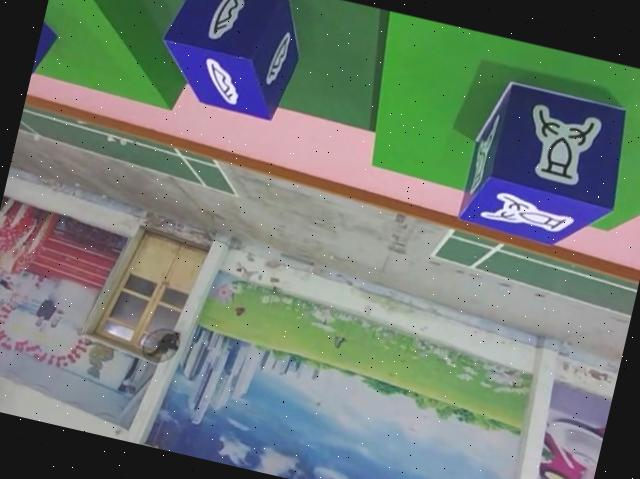R2 Real Blue: (456, 75, 636, 256), (152, 0, 314, 124)
